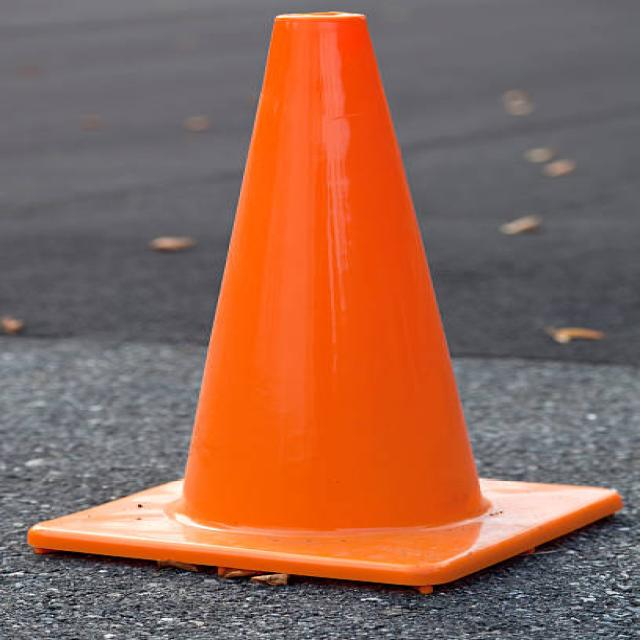Traffic Cone: (26, 2, 638, 615)
